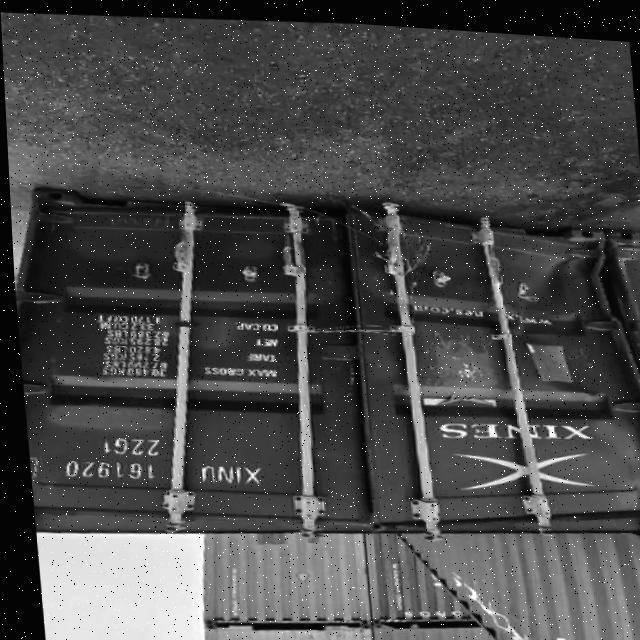dent: (372, 211, 640, 527)
